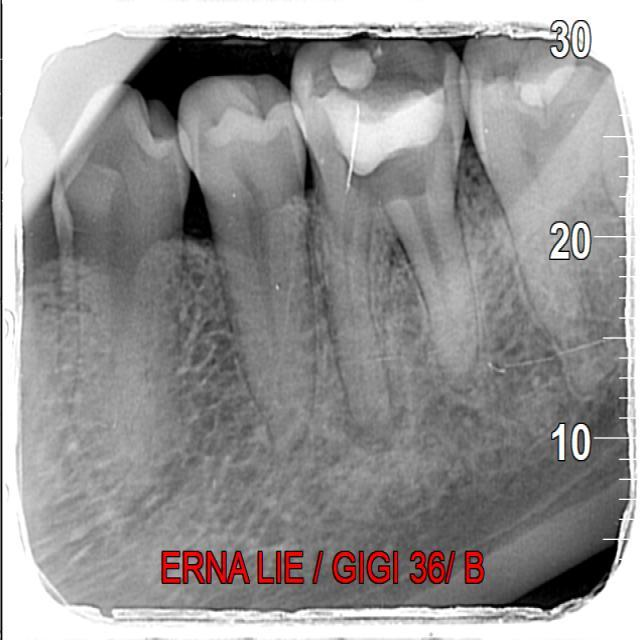individual-tooth-8tto: (288, 31, 474, 455), (63, 88, 190, 485), (184, 77, 317, 435)
